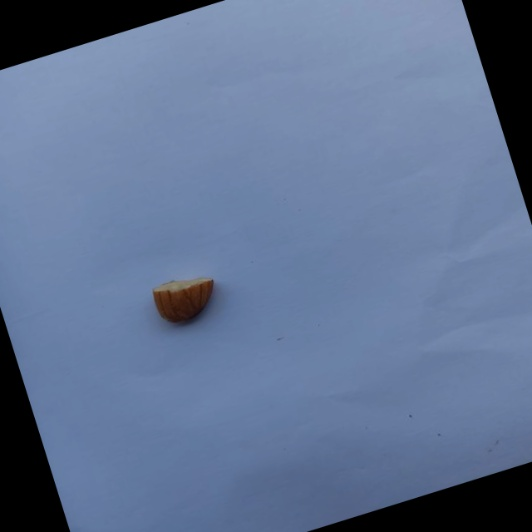grade4: (143, 264, 231, 336)
